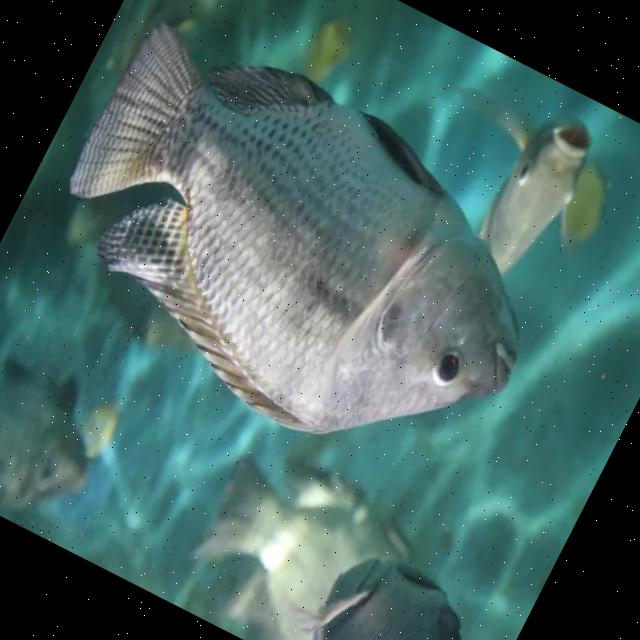ikan: (9, 0, 592, 512)
